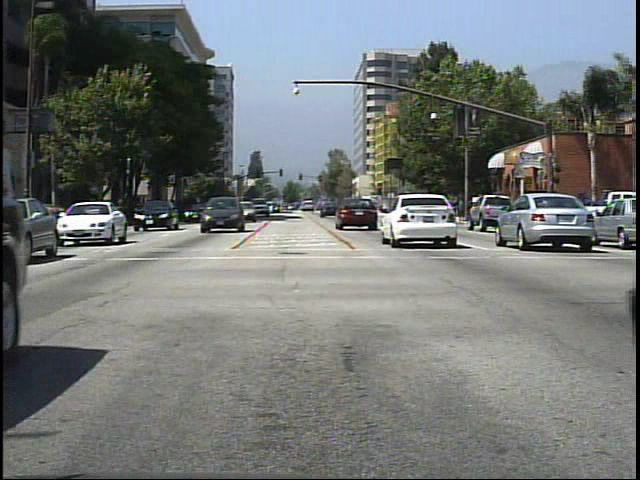person: (531, 193, 550, 228), (494, 189, 512, 224)
